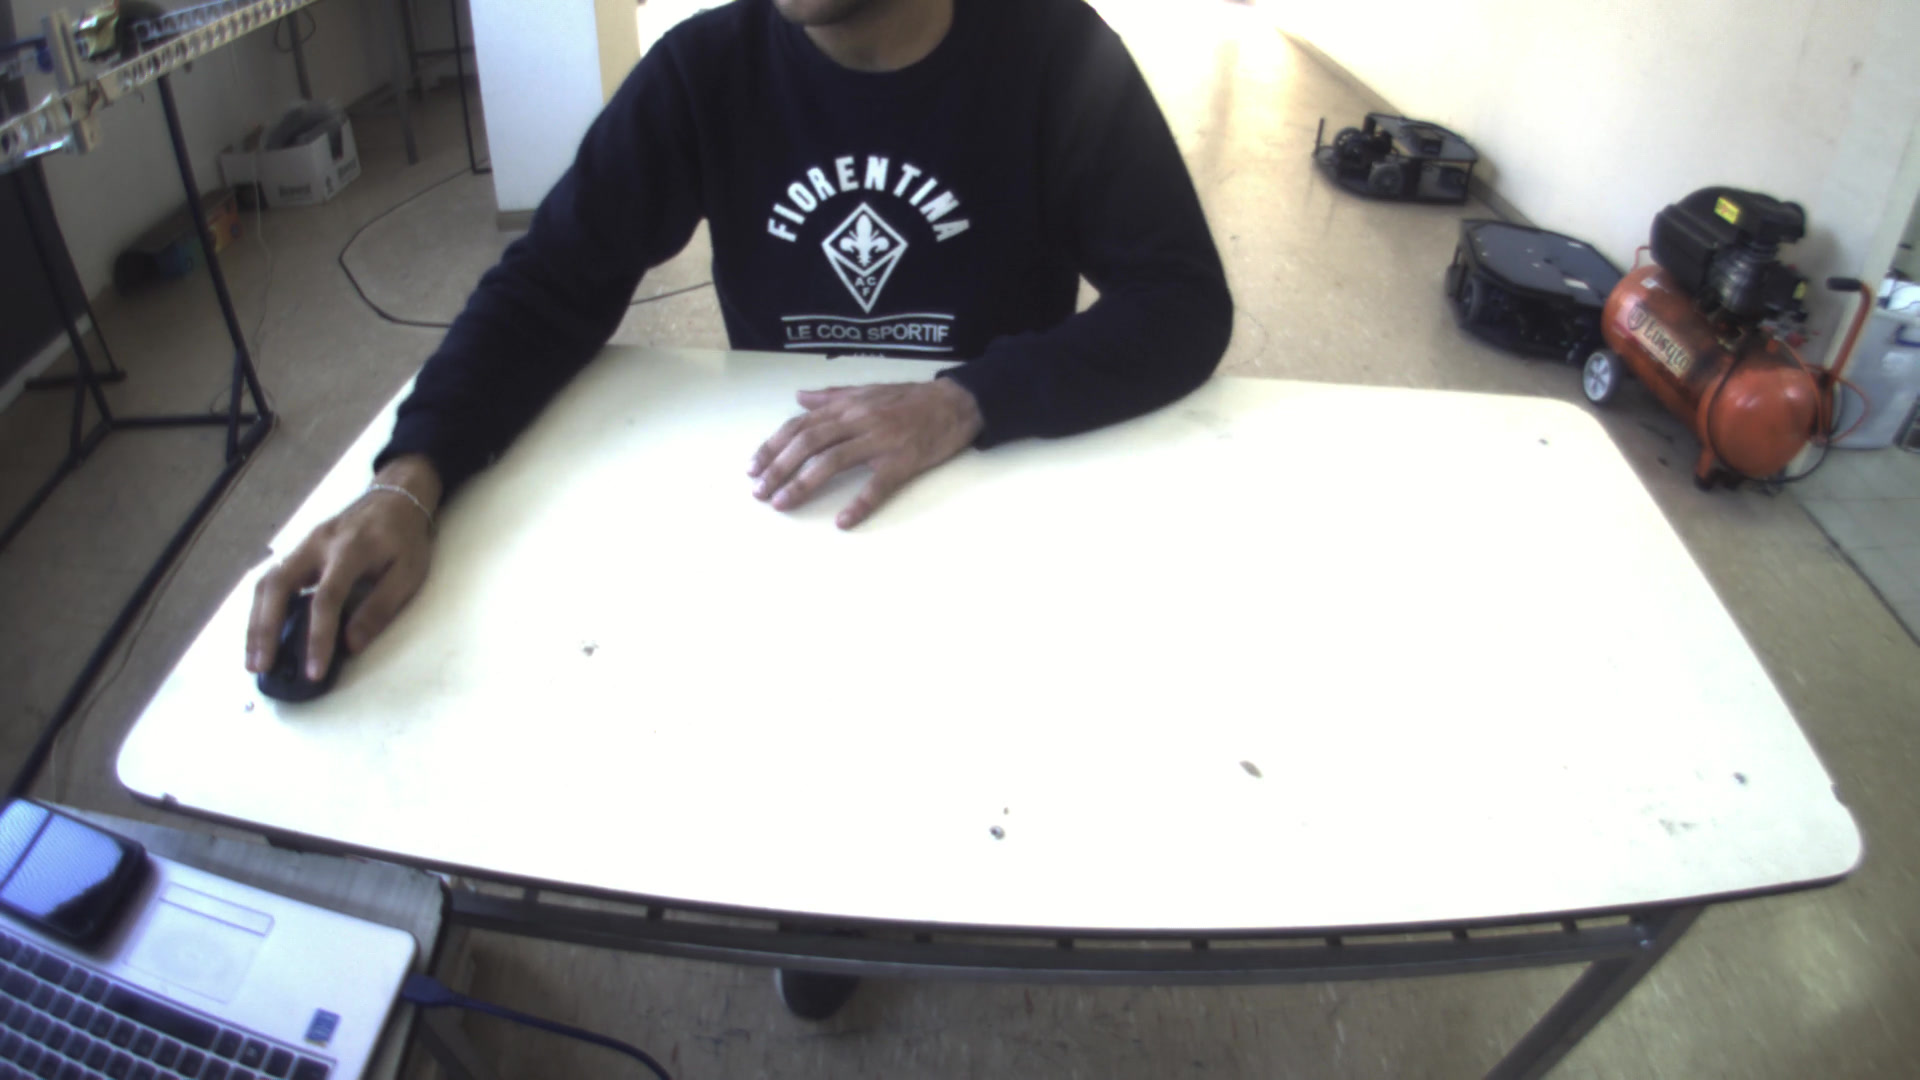hand: (231, 468, 442, 711), (728, 360, 982, 533)
